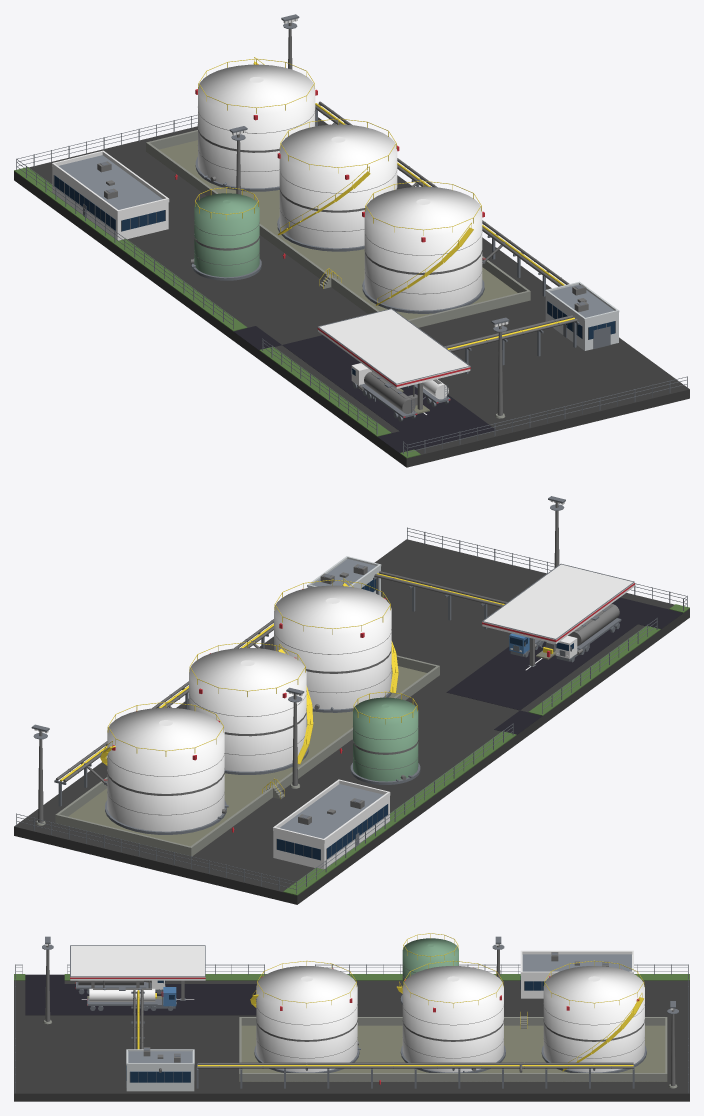
File: top-prebuilt_close.fbx
3 views of the same model, one above another, from view 1: azimuth 30°, elevation 25°; view 2: azimuth 150°, elevation 25°; view 3: azimuth 270°, elevation 25° (orthographic). The views are drawn at different scales.
Visible parts, largest first — view 1: a1079_0_top-prebuilt_close; view 2: a1079_0_top-prebuilt_close; view 3: a1079_0_top-prebuilt_close.
Part boxes in pixels (bbox=[...]): a1079_0_top-prebuilt_close: bbox=[14, 14, 689, 467]; a1079_0_top-prebuilt_close: bbox=[14, 496, 689, 904]; a1079_0_top-prebuilt_close: bbox=[14, 933, 689, 1101].
Bounding box in the file's own units: 50 × 17.75 × 120.
